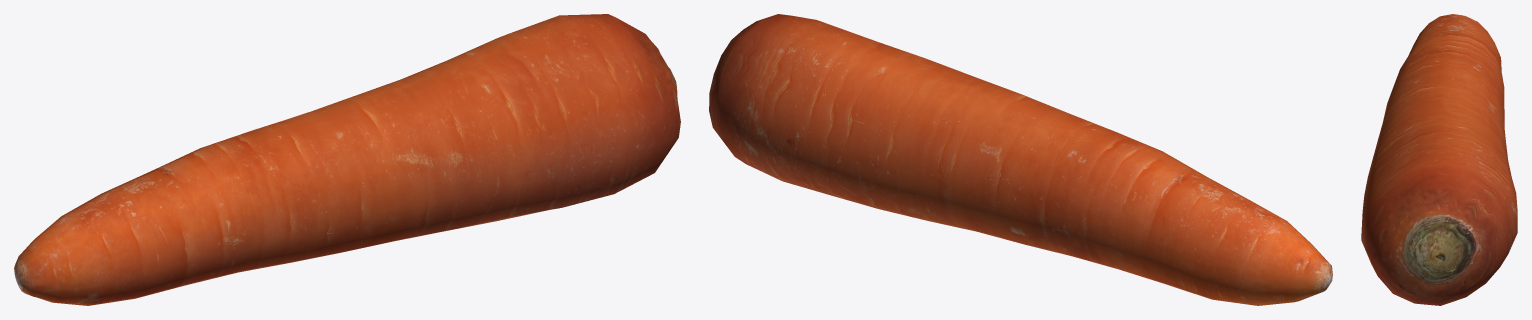
Rendered from A103_Carrot_low.fbx.
3 views of the same model, side by side, from view 1: azimuth 30°, elevation 25°; view 2: azimuth 150°, elevation 25°; view 3: azimuth 270°, elevation 25° (orthographic). The views are drawn at different scales.
Visible parts, largest first — view 1: A103_Carrot_low; view 2: A103_Carrot_low; view 3: A103_Carrot_low.
Boxes of the visible parts, x1,y1,x2,y2 form: A103_Carrot_low: (14, 14, 680, 305); A103_Carrot_low: (709, 14, 1332, 305); A103_Carrot_low: (1361, 14, 1517, 305).
Size of the model in its own units: 20.35 by 5.02 by 5.12.
Materials: 1 (1 with a texture image).
